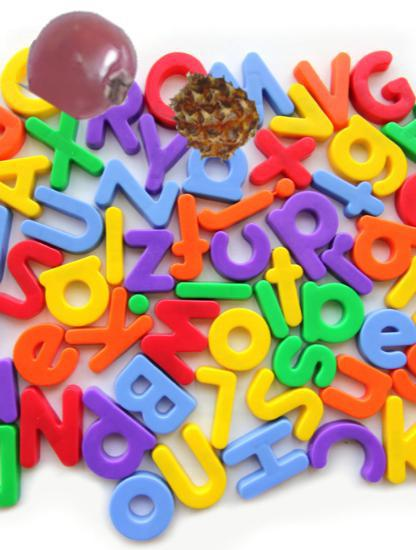Pineapple: (164, 70, 259, 165)
Redcurrant: (28, 10, 139, 121)
